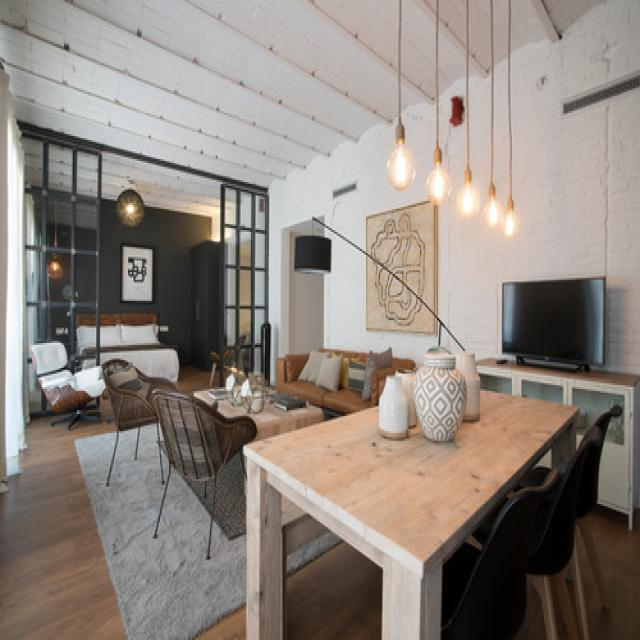vintage chair: (437, 463, 561, 640), (536, 402, 624, 634), (150, 386, 244, 566), (99, 352, 171, 481)
vintage desk: (243, 388, 582, 638)
vintage sofa: (277, 340, 388, 411)
